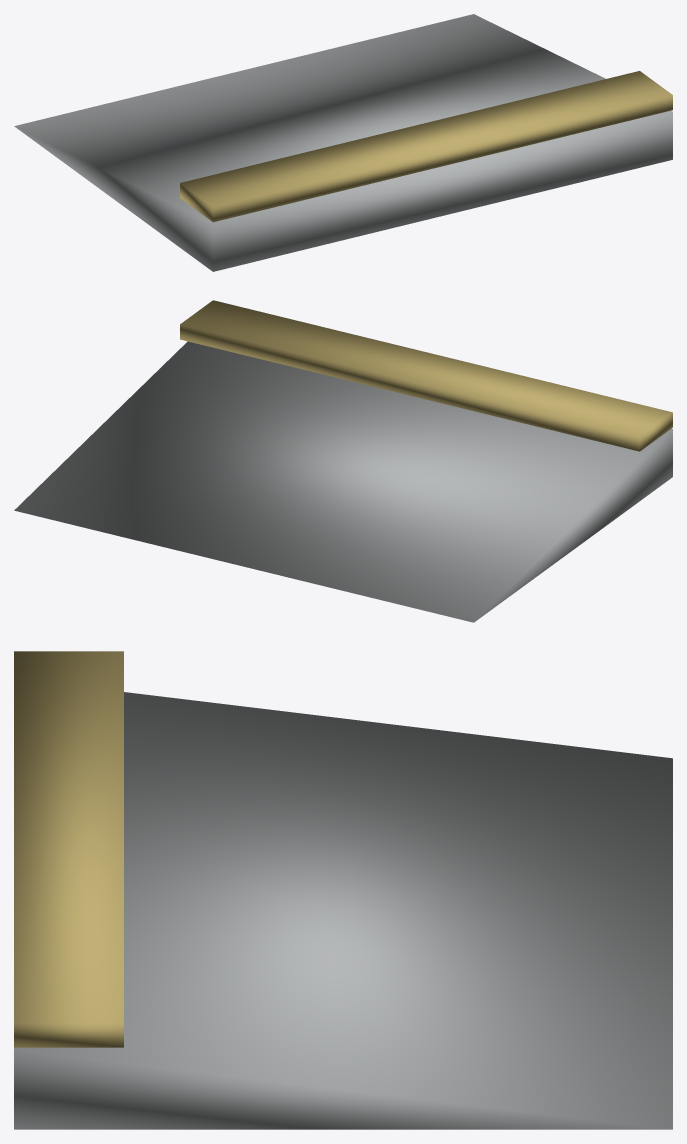
The model's file is curb_ramp_yellow_w80_h8_r60.glb.
The picture shows the model from 3 angles, top to bottom: view 1: azimuth 30°, elevation 25°; view 2: azimuth 150°, elevation 25°; view 3: azimuth 270°, elevation 25°; orthographic projection. The views are drawn at different scales.
Visible parts, largest first — view 1: world; view 2: world; view 3: world.
Part boxes in pixels (x1,y1,x2,y2): world: (14,14,672,271); world: (14,300,672,622); world: (14,651,672,1129).
Size of the model in its own units: 0.8 by 0.1075 by 0.6.
